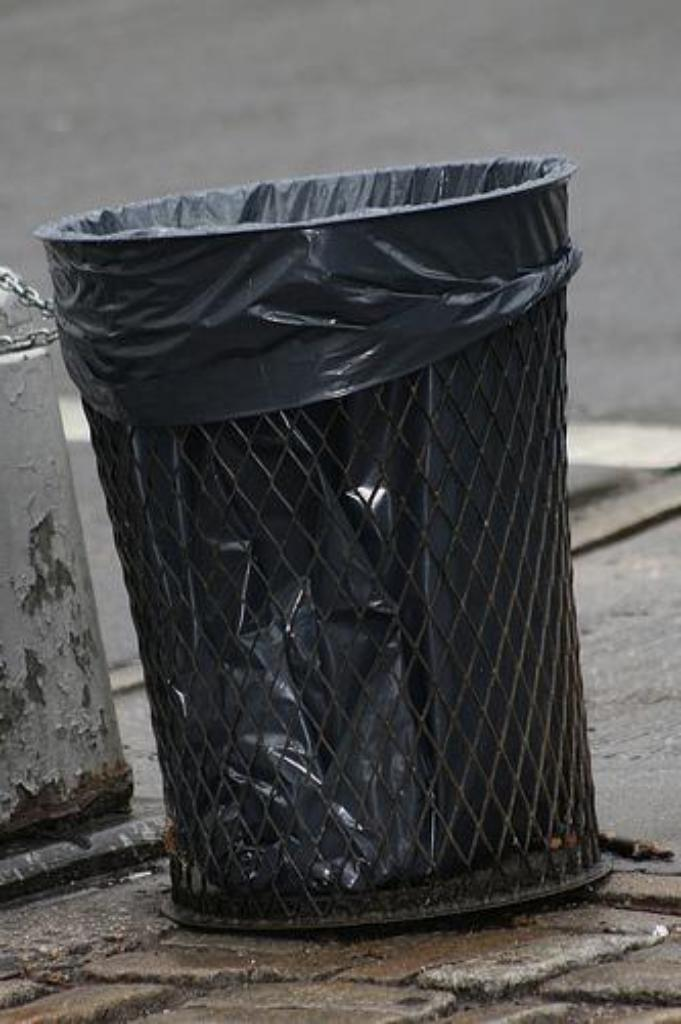dustbin: (52, 139, 587, 934)
